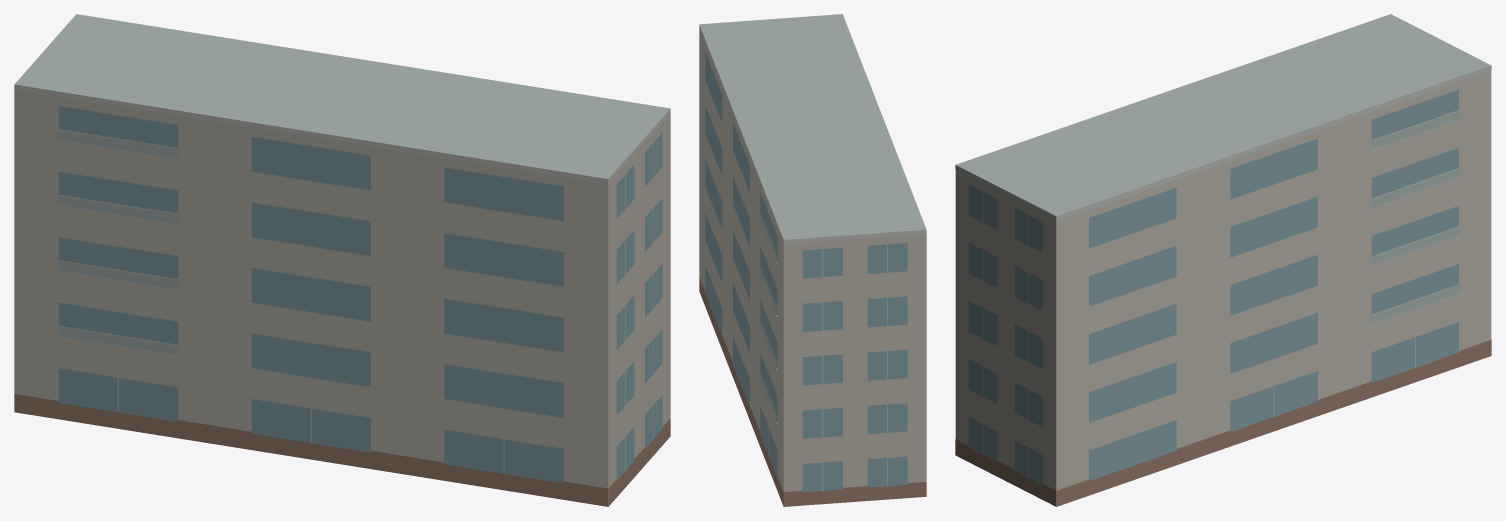
The model's file is survey-upis-32564826.glb.
3 renders of one model, left to right at view 1: azimuth 30°, elevation 25°; view 2: azimuth 150°, elevation 25°; view 3: azimuth 270°, elevation 25°, orthographic. The views are drawn at different scales.
Visible parts, largest first — view 1: survey-upis-32564826.tmp; view 2: survey-upis-32564826.tmp; view 3: survey-upis-32564826.tmp.
Boxes of the visible parts, bbox=[...] form: survey-upis-32564826.tmp: bbox=[14, 14, 670, 506]; survey-upis-32564826.tmp: bbox=[699, 14, 926, 506]; survey-upis-32564826.tmp: bbox=[955, 14, 1491, 506].
Size of the model in its own units: 23.16 by 15.5 by 25.92.
